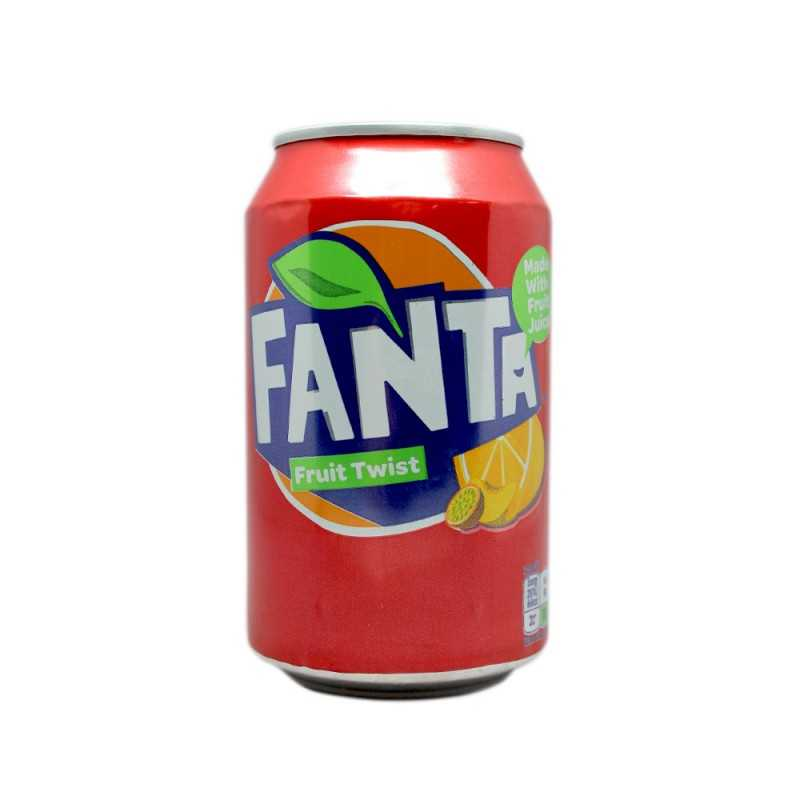Fanta: (212, 111, 591, 731)
